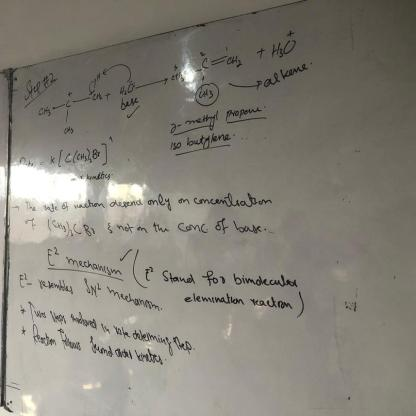Handwritten text: (19, 295, 209, 357), (24, 322, 173, 372), (21, 187, 276, 213), (160, 264, 317, 290), (111, 217, 269, 241), (178, 288, 295, 315), (99, 280, 167, 316), (184, 104, 262, 129), (258, 61, 312, 90), (183, 131, 234, 153), (30, 275, 78, 294), (18, 72, 43, 104)
Whiteboard: (4, 0, 416, 413)
